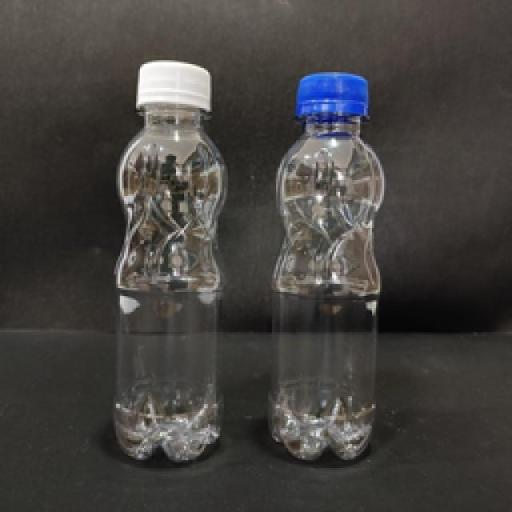plastic: (110, 58, 226, 462), (266, 70, 384, 460)
